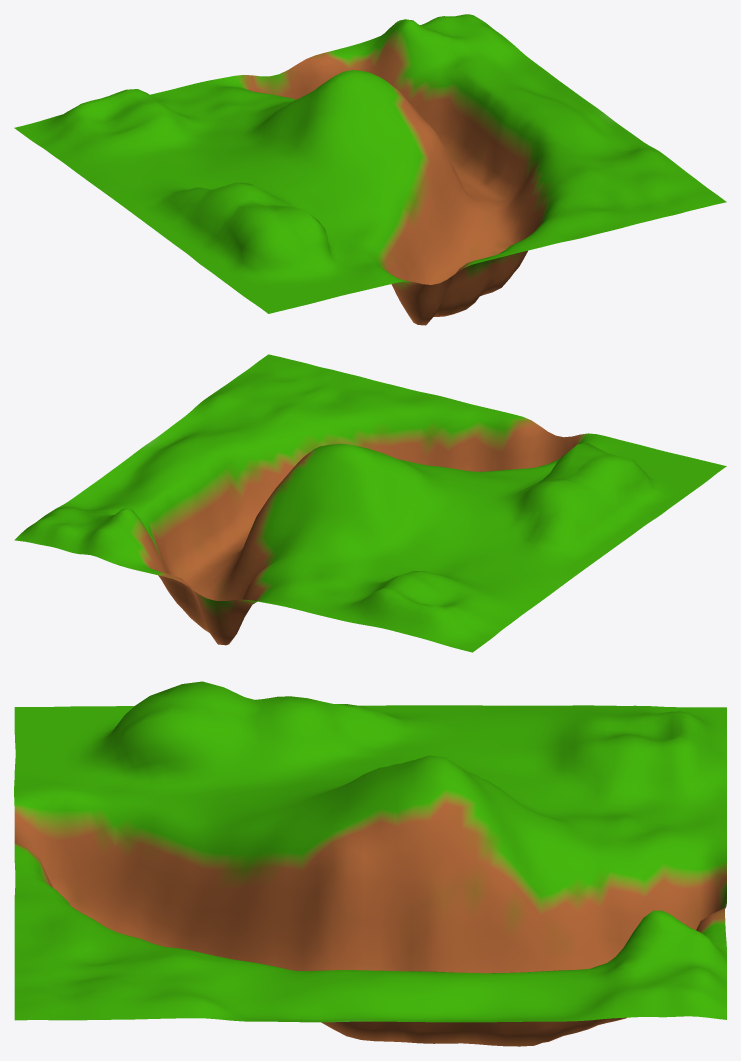
File: Ground.dae
3 views of the same model, one above another, from view 1: azimuth 30°, elevation 25°; view 2: azimuth 150°, elevation 25°; view 3: azimuth 270°, elevation 25° (orthographic). The views are drawn at different scales.
Parts seen in each view (by area): view 1: Ground_001; view 2: Ground_001; view 3: Ground_001.
Part boxes in pixels (bbox=[...]): Ground_001: bbox=[14, 14, 726, 325]; Ground_001: bbox=[14, 354, 726, 652]; Ground_001: bbox=[14, 681, 726, 1046].
Bounding box in the file's own units: 223 × 214 × 67.89.
